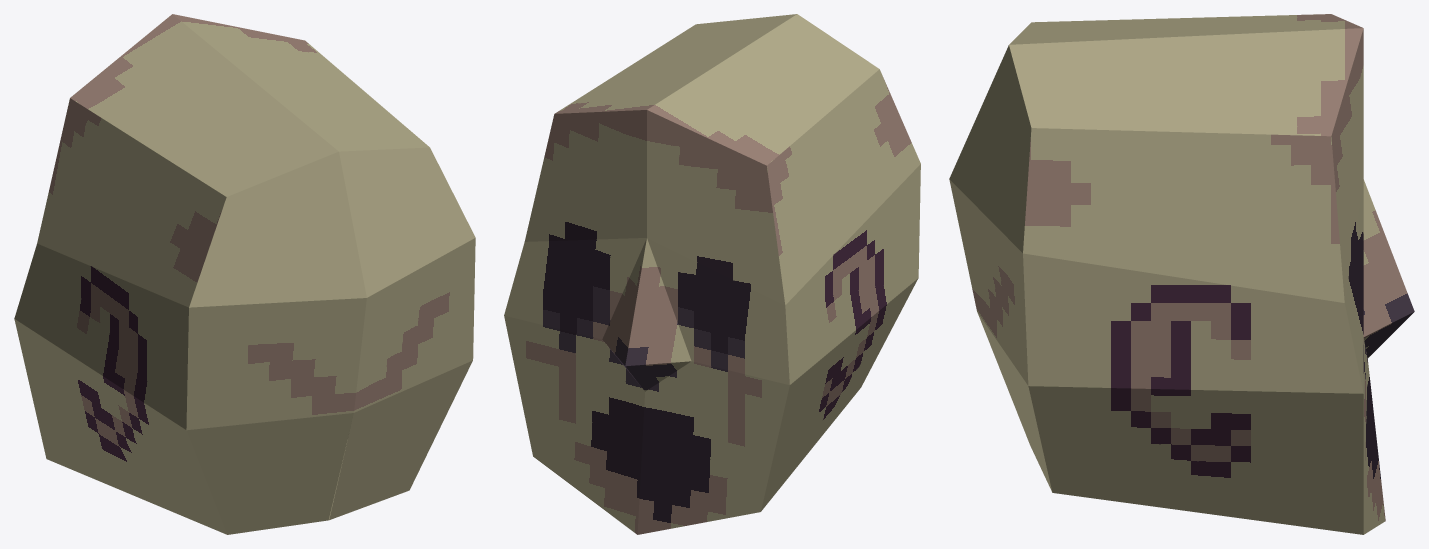
Rendered from character_head.glb.
3 renders of one model, left to right at view 1: azimuth 30°, elevation 25°; view 2: azimuth 150°, elevation 25°; view 3: azimuth 270°, elevation 25°, orthographic. The views are drawn at different scales.
Parts seen in each view (by area): view 1: Cube.049; view 2: Cube.049; view 3: Cube.049.
Boxes of the visible parts, x1,y1,x2,y2 form: Cube.049: (14, 14, 475, 534); Cube.049: (504, 14, 920, 534); Cube.049: (949, 14, 1414, 534).
Bounding box in the file's own units: 1.26 × 1.76 × 1.51.
Materials: 1 (1 with a texture image).
